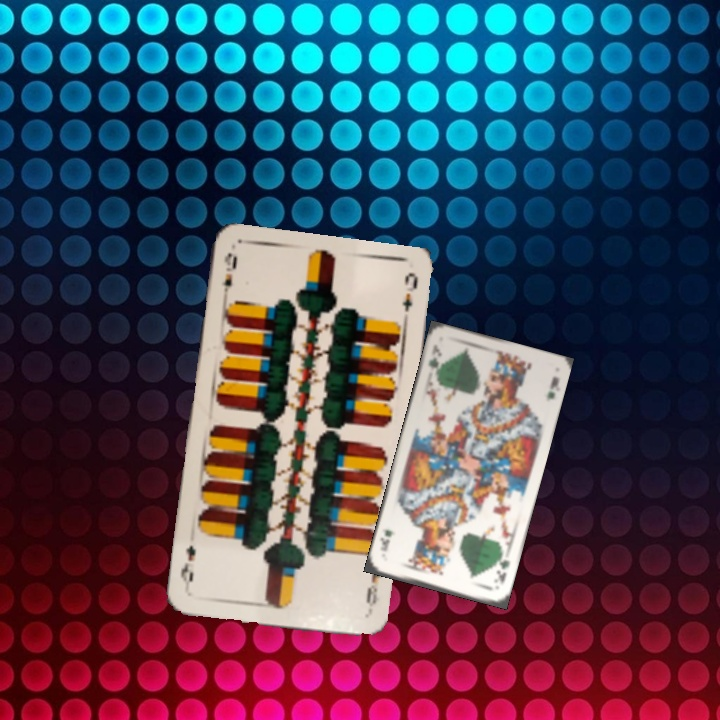E9: (219, 249, 240, 304), (362, 565, 385, 610)
GK: (489, 549, 513, 586), (425, 340, 445, 379)
